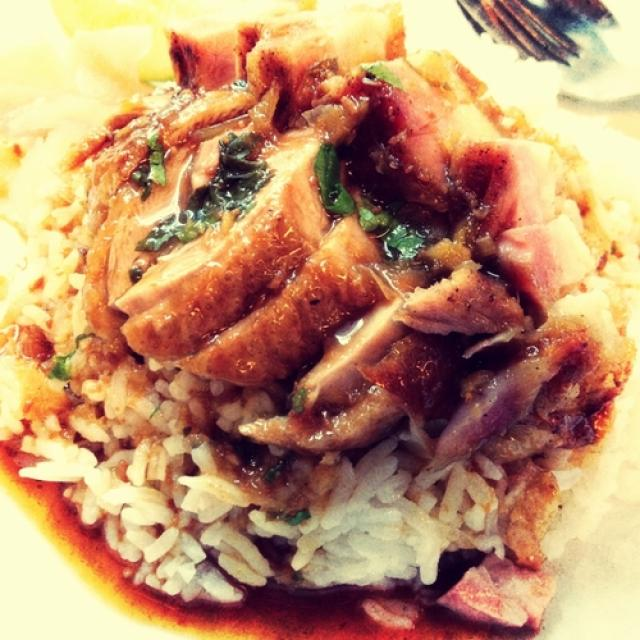米饭主食: (27, 18, 616, 616)
